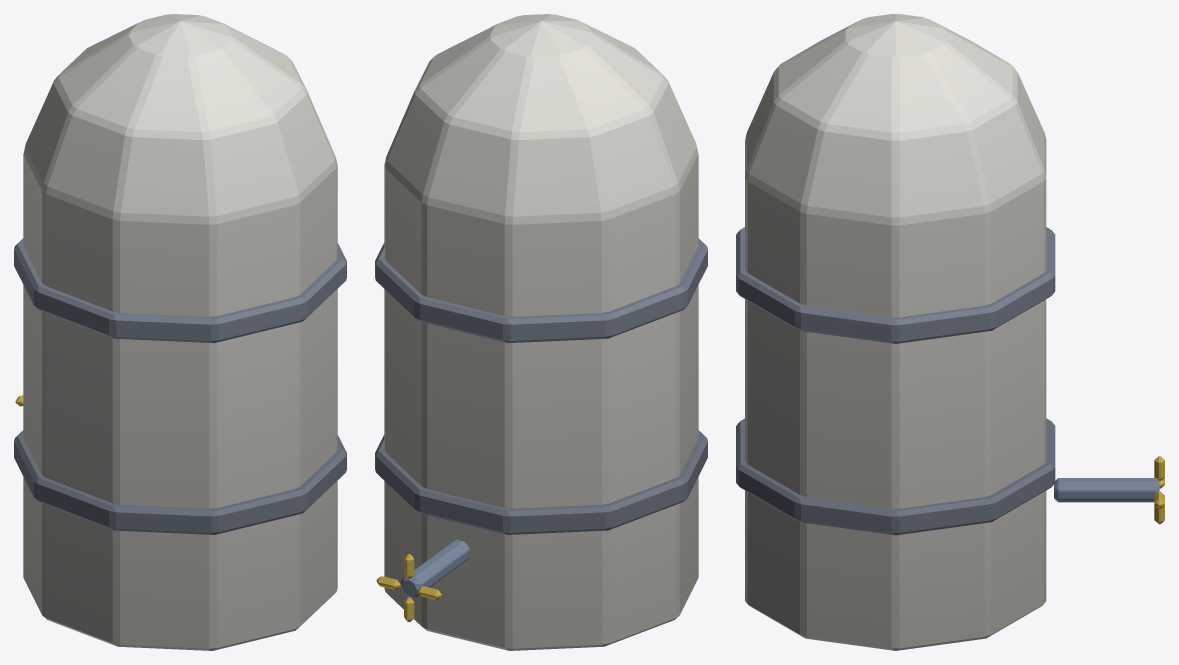
Rendered from chemical_vat.glb.
3 views of the same model, side by side, from view 1: azimuth 30°, elevation 25°; view 2: azimuth 150°, elevation 25°; view 3: azimuth 270°, elevation 25° (orthographic).
Visible parts, largest first — view 1: chemical_vat; view 2: chemical_vat; view 3: chemical_vat.
Boxes of the visible parts, x1=… form: chemical_vat: x1=14, y1=14, x2=346, y2=650; chemical_vat: x1=375, y1=14, x2=707, y2=650; chemical_vat: x1=736, y1=14, x2=1164, y2=650.
Bounding box in the file's own units: 0.6311 × 1.18 × 0.8124.
Materials: 1 (1 with a texture image).
